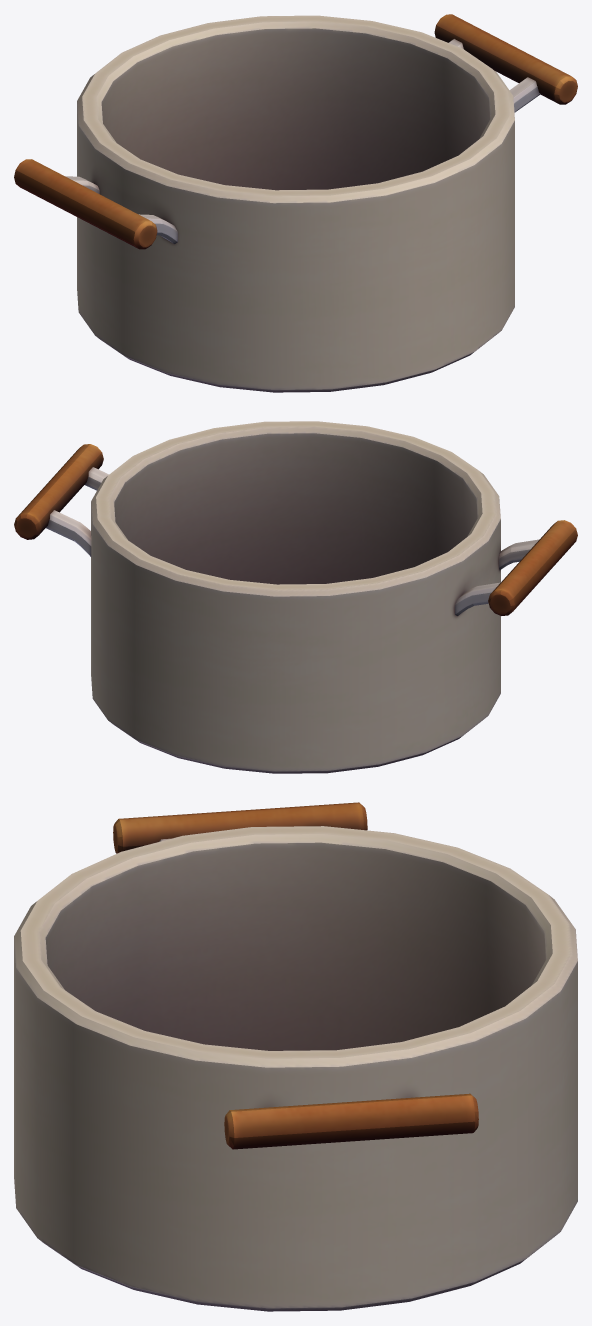
The model's file is stockpot.gltf.
3 renders of one model, top to bottom at view 1: azimuth 30°, elevation 25°; view 2: azimuth 150°, elevation 25°; view 3: azimuth 270°, elevation 25°, orthographic. The views are drawn at different scales.
Visible parts, largest first — view 1: guo, guo.001; view 2: guo, guo.001; view 3: guo, guo.001.
Boxes of the visible parts, bbox=[...] form: guo: bbox=[14, 14, 577, 392]; guo.001: bbox=[83, 28, 563, 243]; guo: bbox=[14, 421, 577, 773]; guo.001: bbox=[15, 433, 530, 615]; guo: bbox=[14, 802, 577, 1311]; guo.001: bbox=[45, 806, 546, 1131].
Size of the model in its own units: 1.72 by 0.6237 by 1.26.
1 material, 1 textured.
